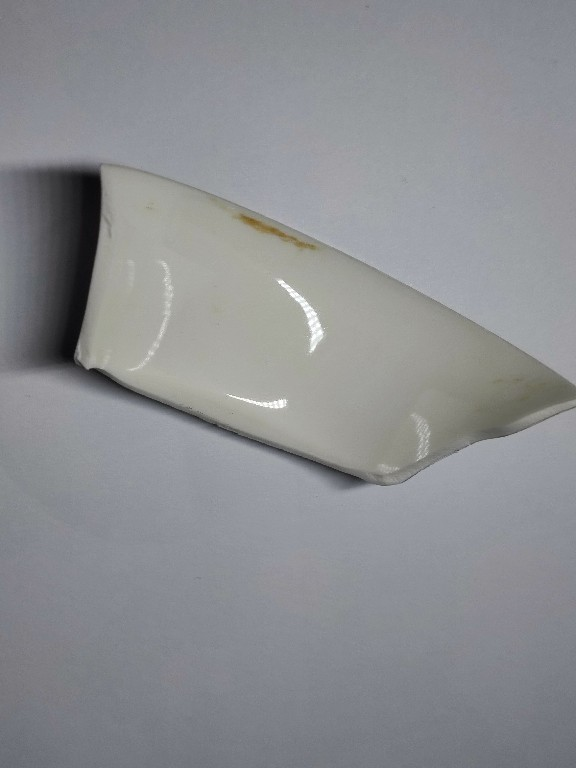ceramics: (68, 160, 576, 489)
